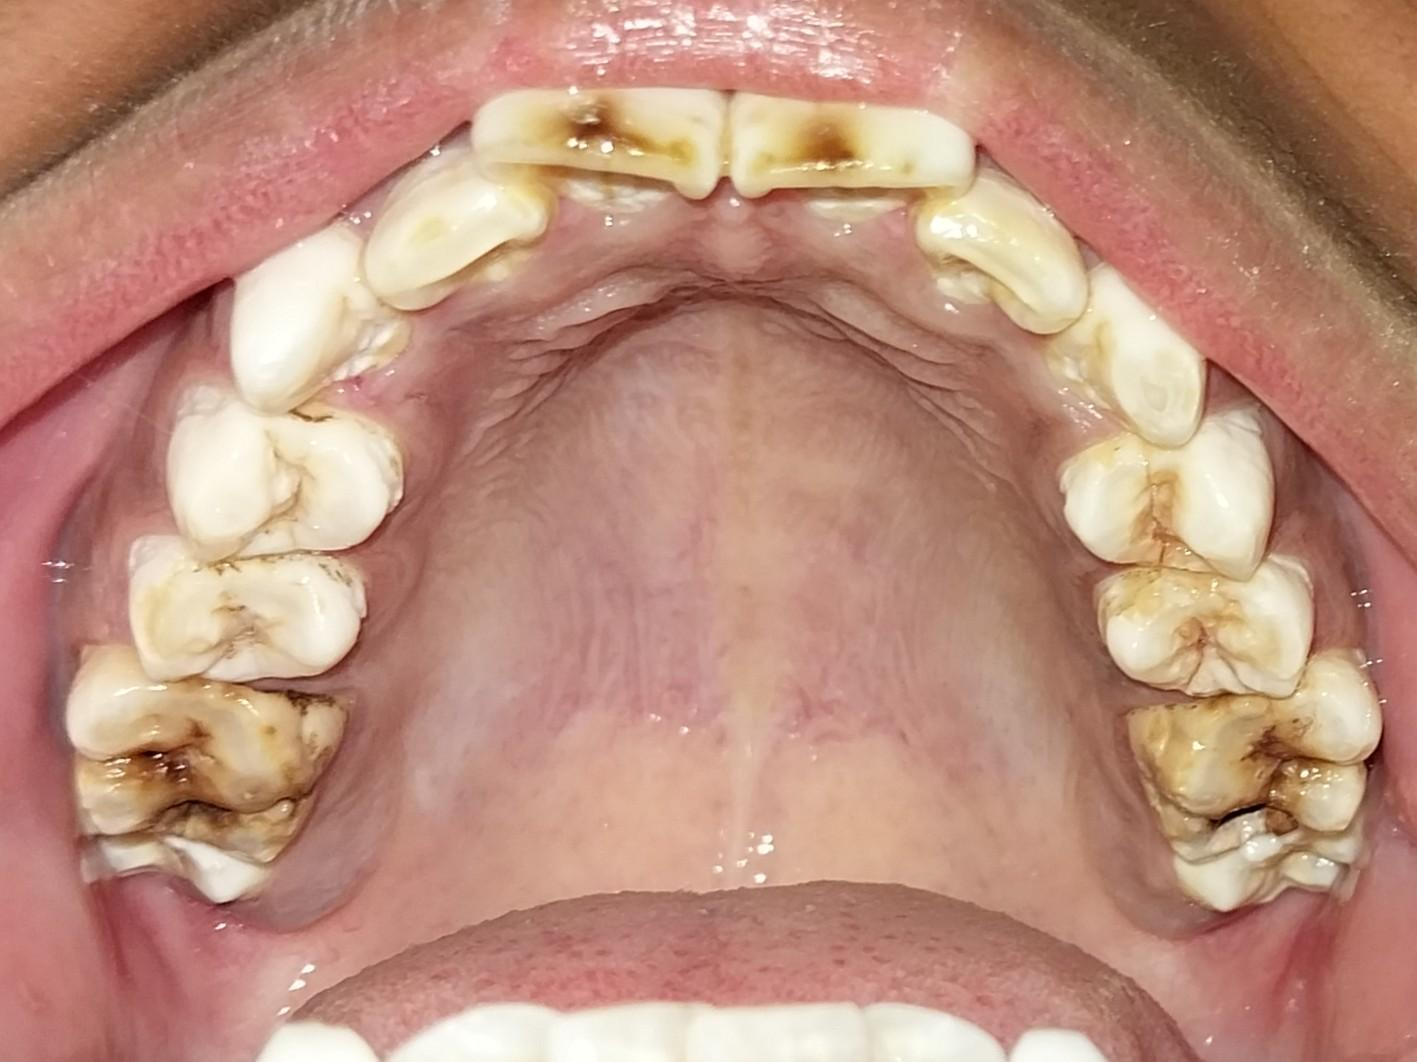D: (70, 667, 339, 872), (1141, 676, 1379, 865), (121, 549, 359, 685), (1081, 569, 1313, 694), (1072, 438, 1277, 572)
